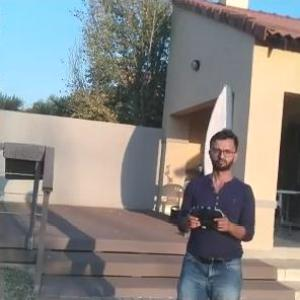follow: (166, 122, 256, 299)
